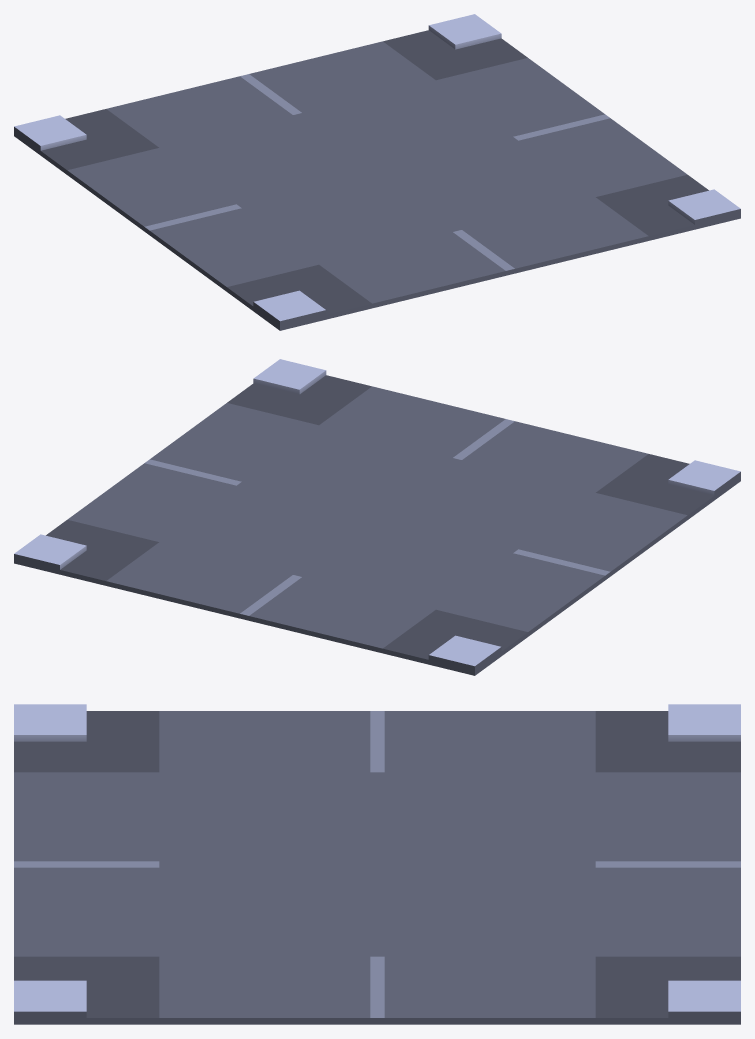
The model's file is road_crossroad.glb.
3 renders of one model, top to bottom at view 1: azimuth 30°, elevation 25°; view 2: azimuth 150°, elevation 25°; view 3: azimuth 270°, elevation 25°, orthographic. The views are drawn at different scales.
Visible parts, largest first — view 1: road-crossroad; view 2: road-crossroad; view 3: road-crossroad.
Boxes of the visible parts, x1=… form: road-crossroad: x1=14, y1=14, x2=740, y2=330; road-crossroad: x1=14, y1=359, x2=740, y2=675; road-crossroad: x1=14, y1=704, x2=740, y2=1024.
Size of the model in its own units: 6 by 0.12 by 6.
1 material, 1 textured.
